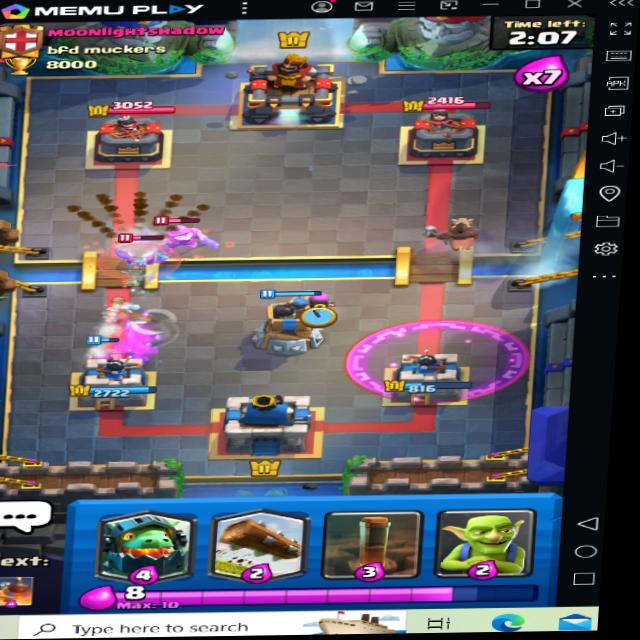Executioner: (107, 225, 171, 276)
Fisherman: (139, 210, 222, 253)
Rage: (343, 320, 529, 398)
